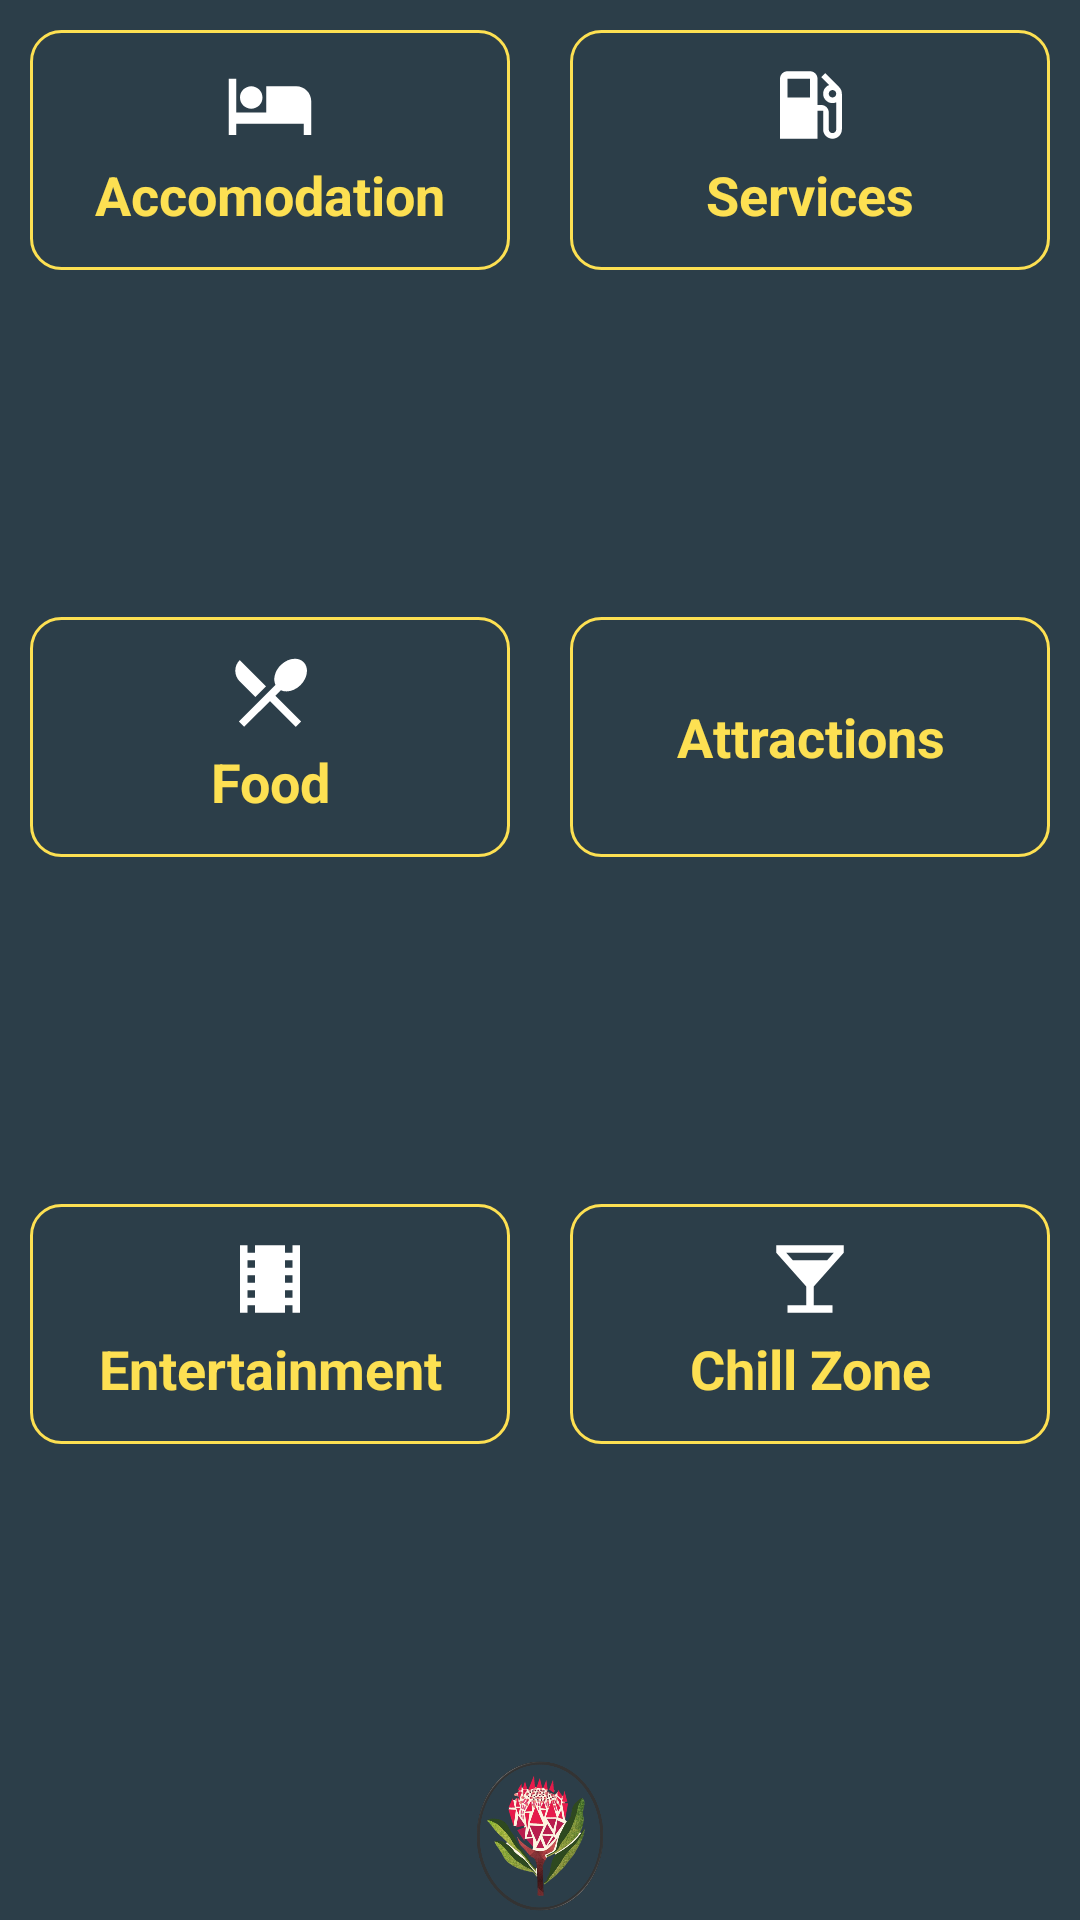

Icons on this 1080x1920 Android screen, each with the point to tap as (x=x, y=y):
protea: (x=540, y=1836)
